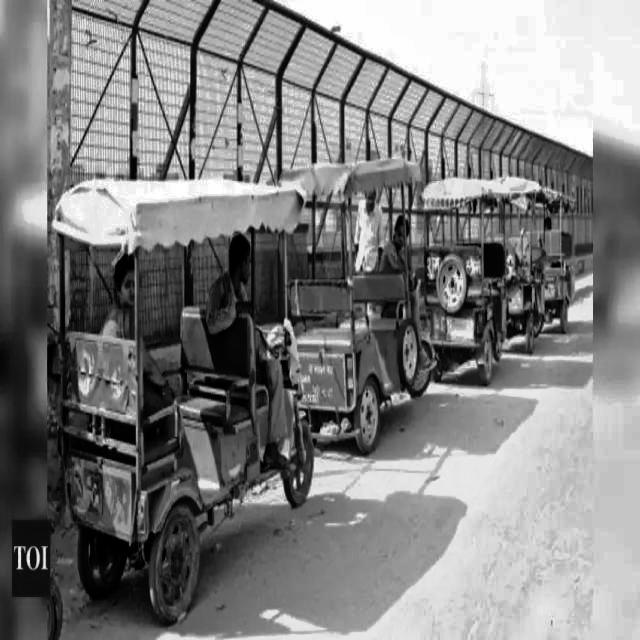Toto: (58, 173, 322, 621), (308, 159, 423, 454), (419, 178, 509, 383)
